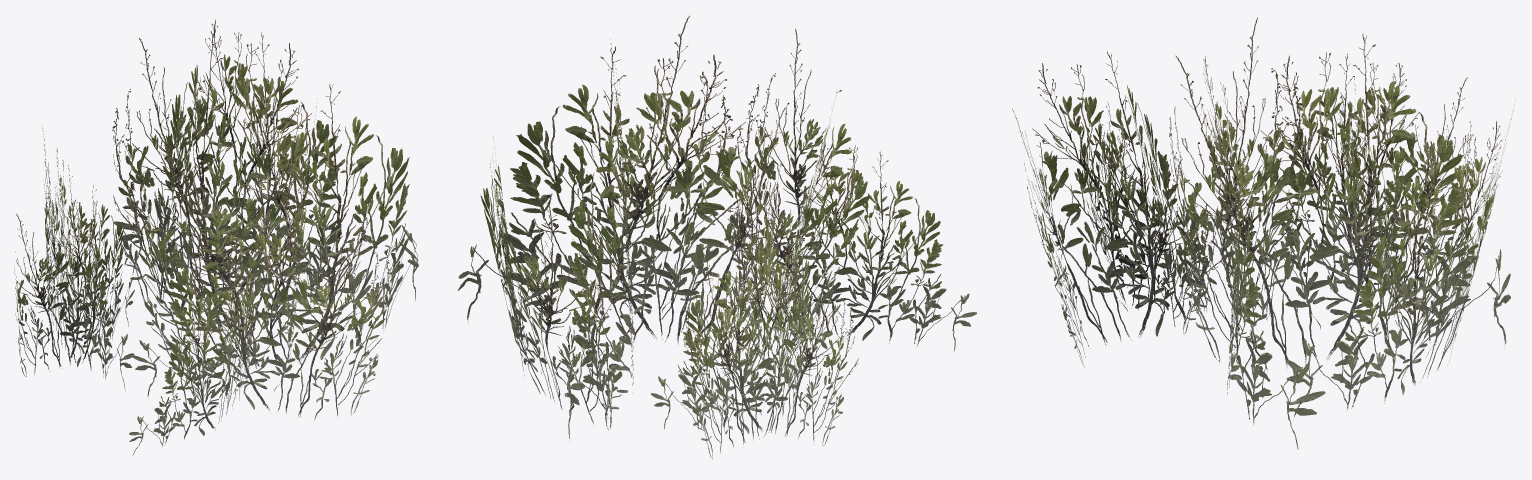
The model's file is proc_leafybush_01.FBX.
The picture shows the model from 3 angles, left to right: view 1: azimuth 30°, elevation 25°; view 2: azimuth 150°, elevation 25°; view 3: azimuth 270°, elevation 25°; orthographic projection. The views are drawn at different scales.
Visible parts, largest first — view 1: proc_leafybush_01; view 2: proc_leafybush_01; view 3: proc_leafybush_01.
Part boxes in pixels (<box>): proc_leafybush_01: <box>14,19,418,455</box>; proc_leafybush_01: <box>457,15,976,458</box>; proc_leafybush_01: <box>1012,17,1515,449</box>.
Bounding box in the file's own units: 2.44 × 2.44 × 1.79.
1 material, 1 textured.
